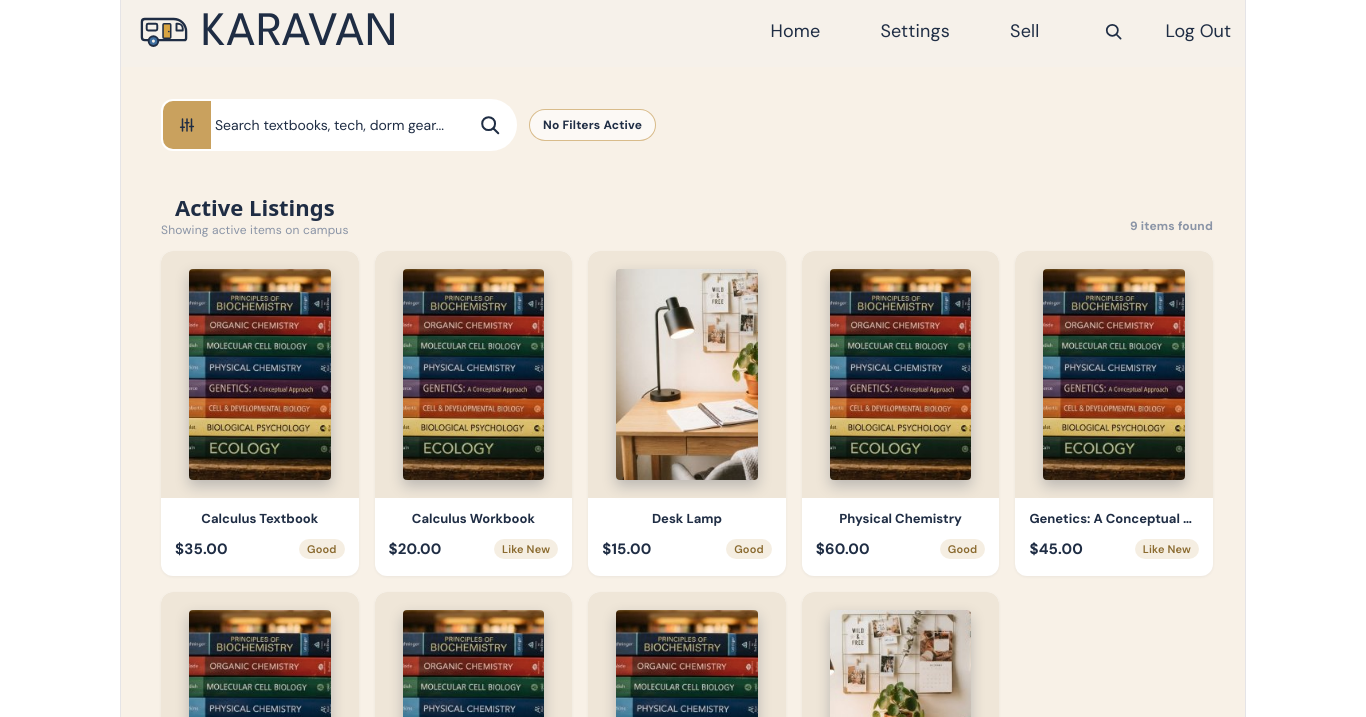
Scenario: ProductSearch category filtering › combines the product-name query with categories and preserves the query
This screenshot has width=1366, height=717.
Type "Calculus" into the field named "Search products" at (345, 125), box x1=211 y1=101 x2=479 y2=149
Wait 350 ms
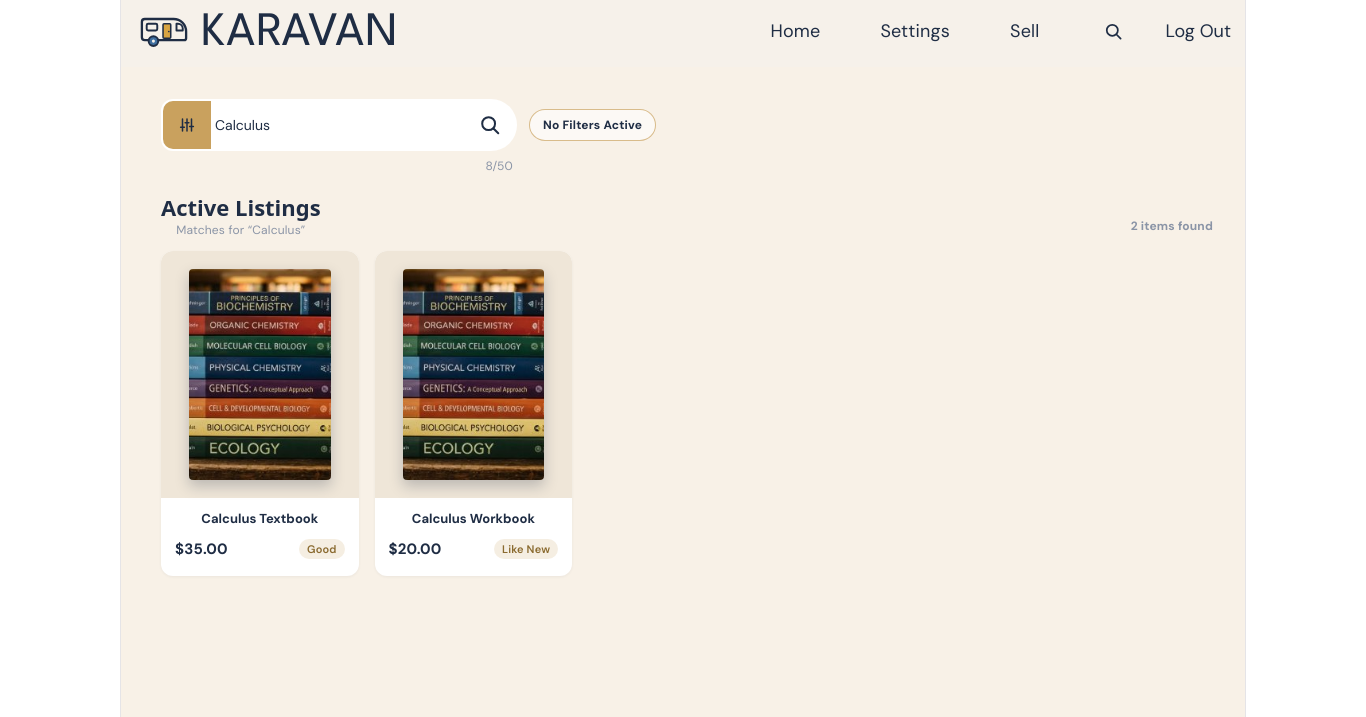
Expected: the link "Calculus Textbook" is shown, x1=201 y1=510 x2=318 y2=527
Expected: the link "Calculus Workbook" is shown, x1=412 y1=510 x2=535 y2=527
Click the button named "Open filters" at (187, 125), box x1=163 y1=101 x2=211 y2=149
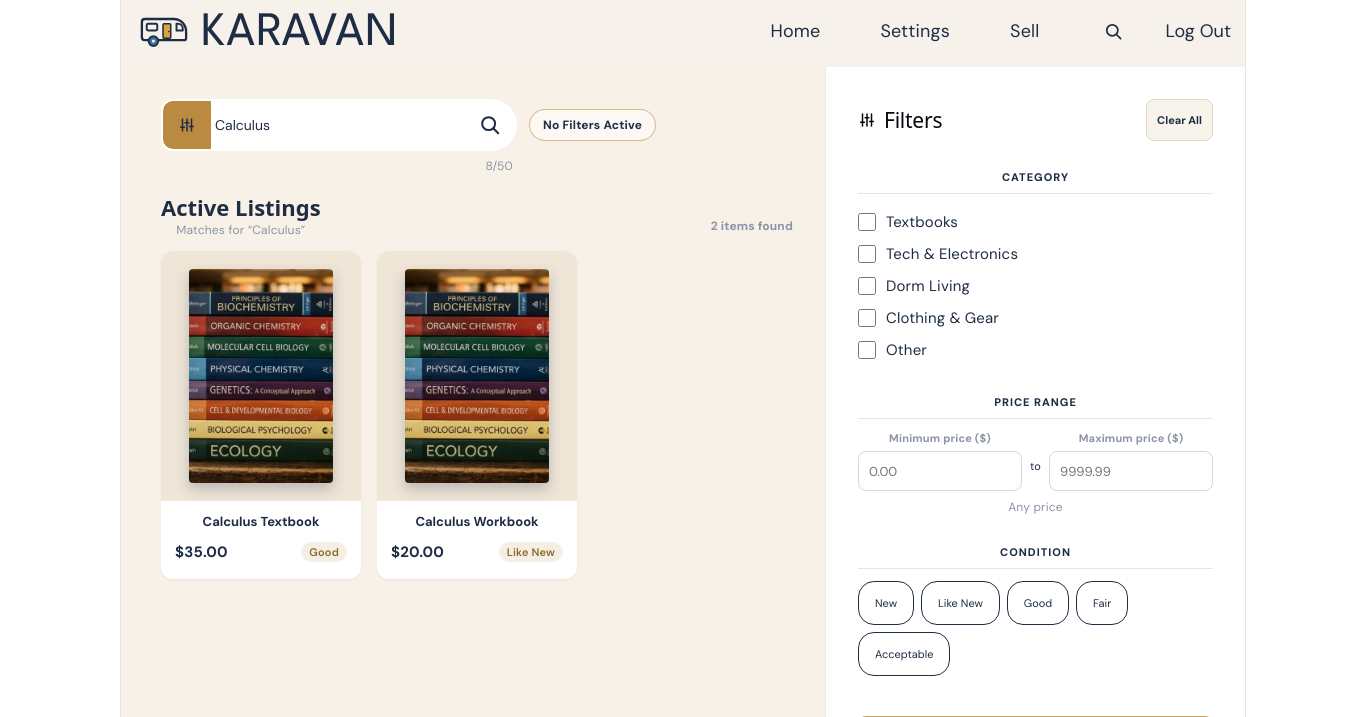
Click the checkbox labelled "Dorm Living" at (867, 286), box x1=858 y1=277 x2=876 y2=295
(page scrolled)
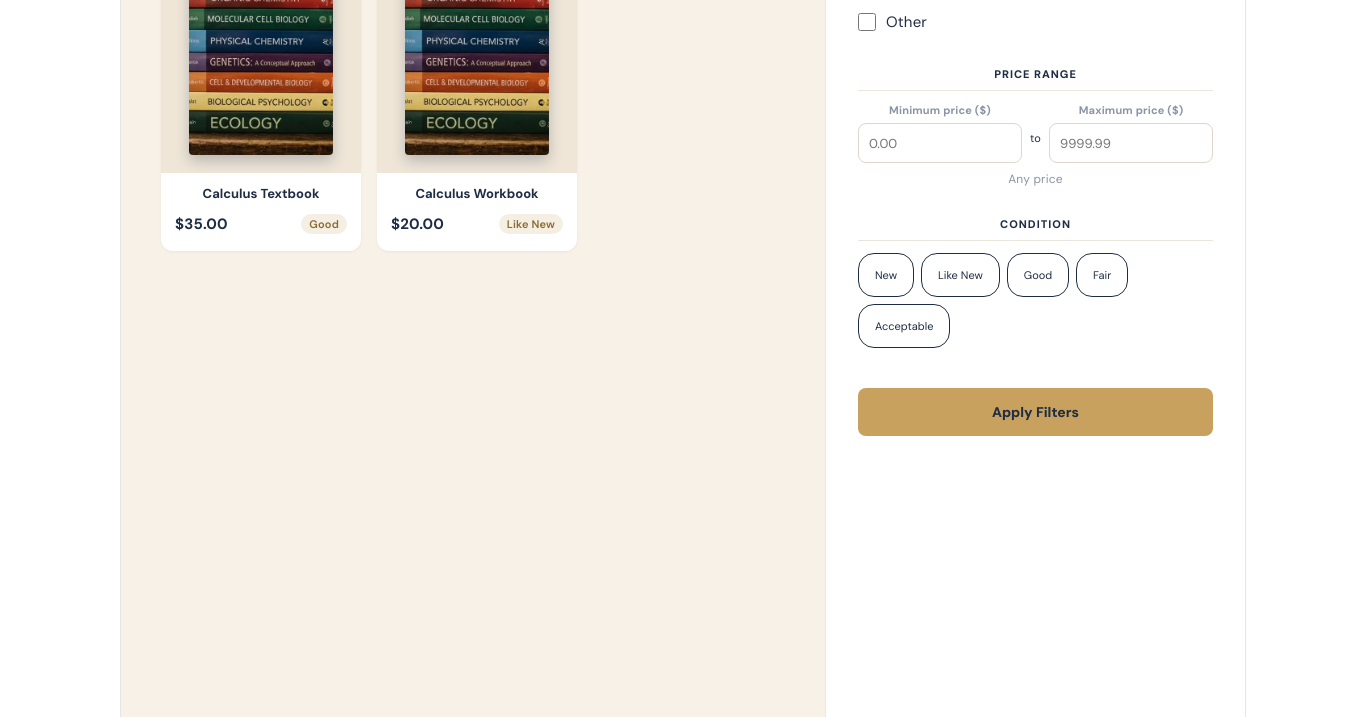
Click the button "Apply Filters" at (1036, 412), box x1=858 y1=388 x2=1213 y2=436
Wait 350 ms
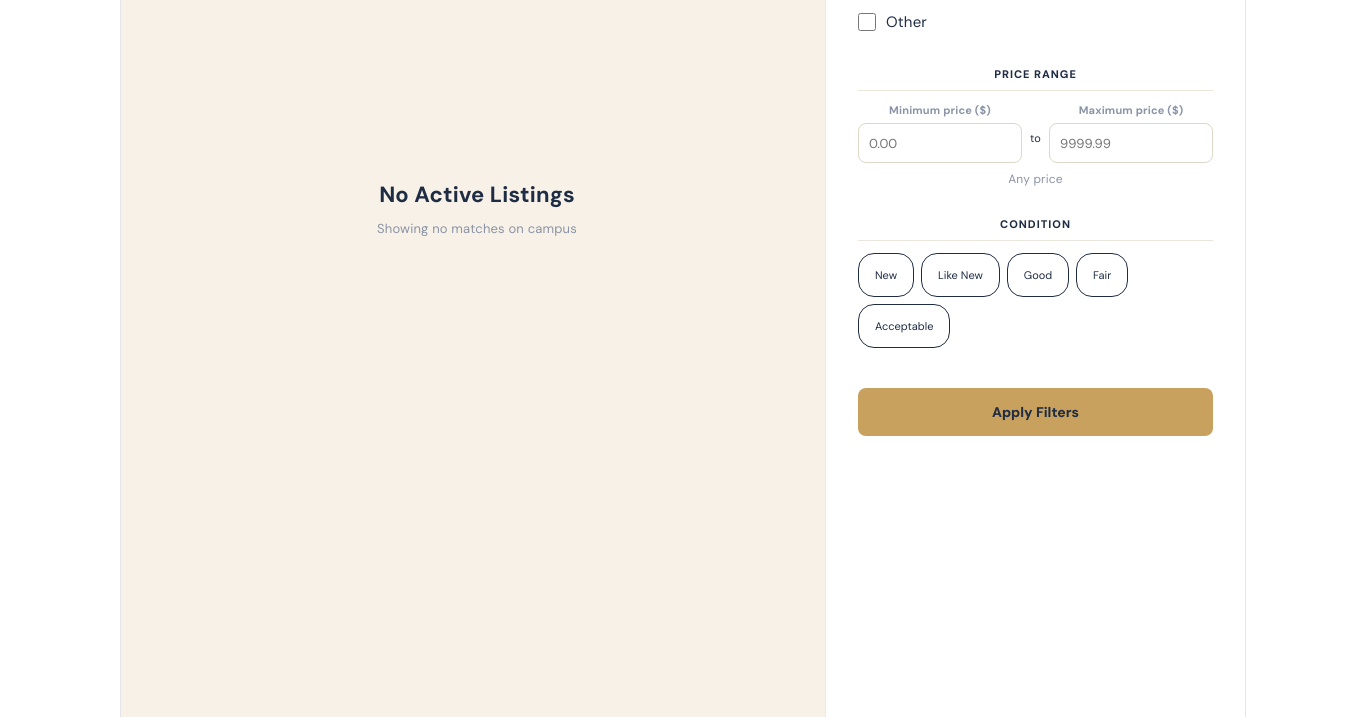
Now the heading "No Active Listings" is shown, box x1=377 y1=180 x2=577 y2=210
Now the text "Showing no matches on campus" is shown, box x1=377 y1=216 x2=577 y2=242
